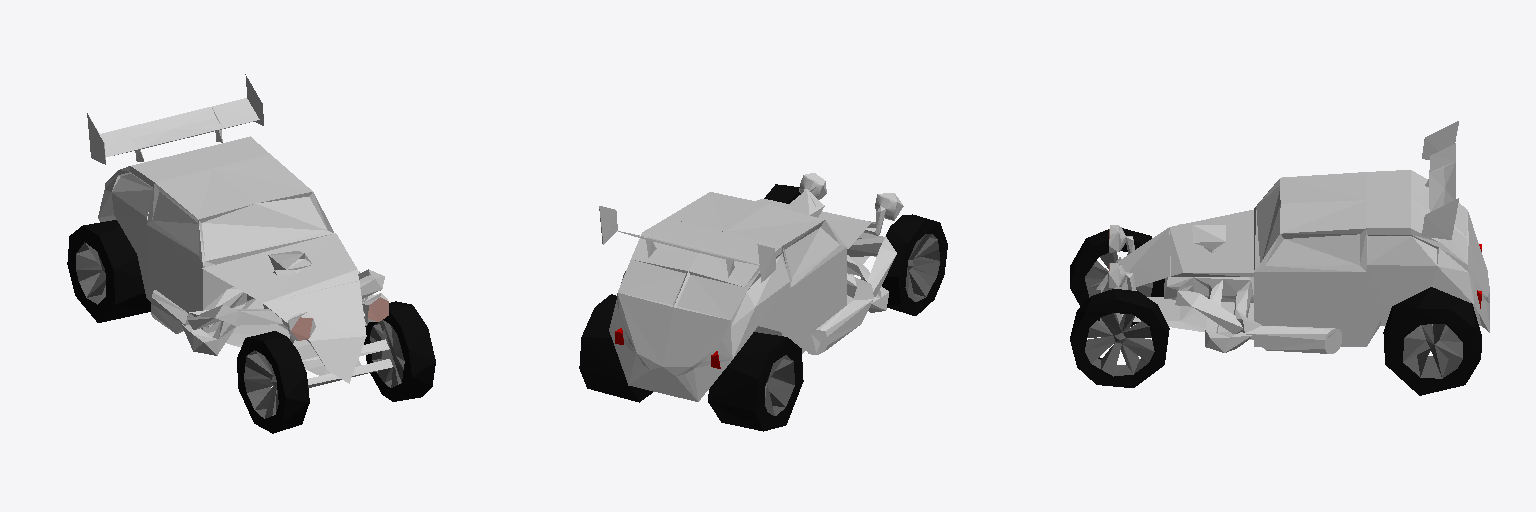
The model's file is bug_car_all_model.obj.
3 views of the same model, side by side, from view 1: azimuth 30°, elevation 25°; view 2: azimuth 150°, elevation 25°; view 3: azimuth 270°, elevation 25° (orthographic).
Visible parts, largest first — view 1: Cube.001, Cylinder.007, Cylinder.006, Cylinder.004; view 2: Cube.001, Cylinder.007, Cylinder.006, Cylinder.005; view 3: Cube.001, Cylinder.005, Cylinder.004, Cylinder.006.
Boxes of the visible parts, box(x1,y1,x2,y2) form: Cube.001: box(87, 74, 395, 387); Cylinder.007: box(67, 220, 150, 322); Cylinder.006: box(237, 331, 309, 433); Cylinder.004: box(364, 301, 435, 401); Cube.001: box(599, 173, 903, 401); Cylinder.007: box(708, 332, 803, 431); Cylinder.006: box(882, 214, 947, 315); Cylinder.005: box(579, 294, 652, 402); Cube.001: box(1096, 121, 1489, 353); Cylinder.005: box(1383, 287, 1481, 395); Cylinder.004: box(1070, 289, 1169, 387); Cylinder.006: box(1070, 228, 1164, 326).
Size of the model in its own units: 2.06 by 2.11 by 4.14.